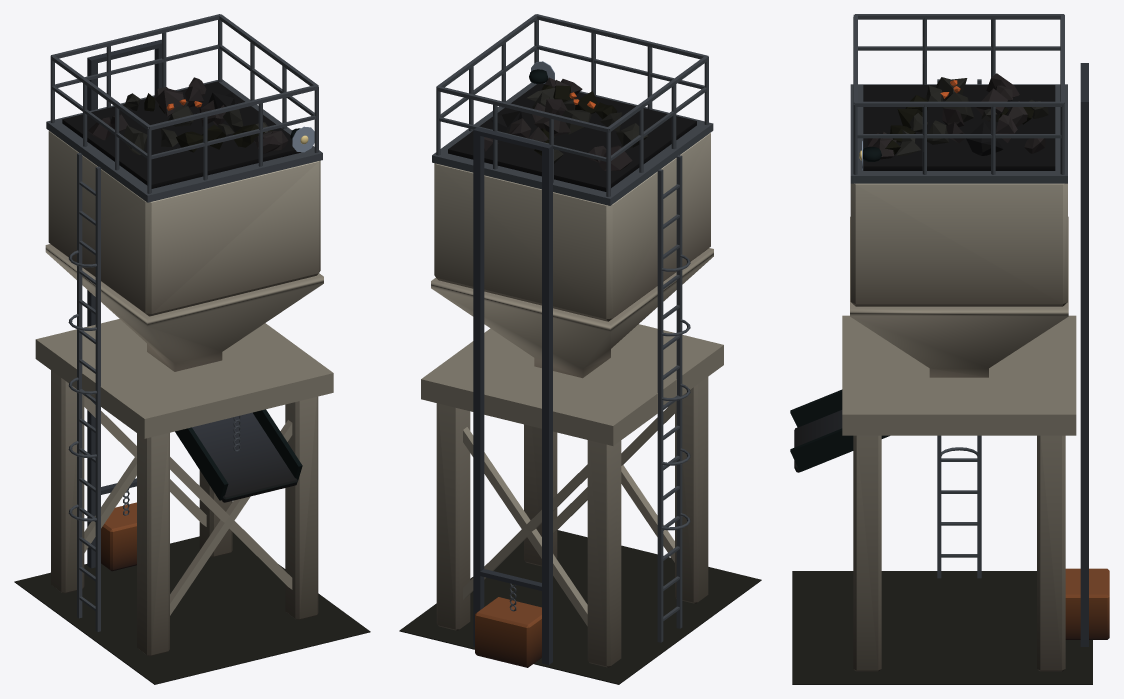
The model's file is coaling-tower-modern.glb.
The picture shows the model from 3 angles, left to right: view 1: azimuth 30°, elevation 25°; view 2: azimuth 150°, elevation 25°; view 3: azimuth 270°, elevation 25°; orthographic projection. The views are drawn at different scales.
Visible parts, largest first — view 1: coaling_tower_modern; view 2: coaling_tower_modern; view 3: coaling_tower_modern.
Boxes of the visible parts, x1,y1,x2,y2 form: coaling_tower_modern: [14, 14, 370, 684]; coaling_tower_modern: [399, 14, 761, 684]; coaling_tower_modern: [790, 14, 1109, 684].
Size of the model in its own units: 3.28 by 7.53 by 3.82.
